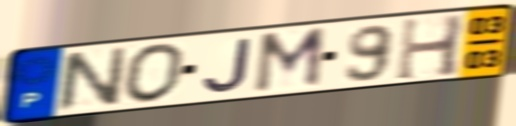9: (343, 23, 397, 83)
H: (393, 13, 469, 84)
J: (199, 36, 255, 95)
M: (250, 24, 329, 96)
N: (56, 44, 131, 114)
O: (122, 41, 189, 105)
